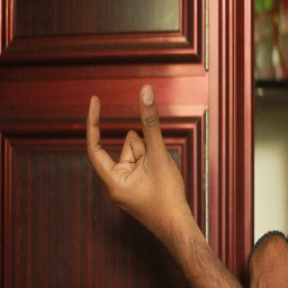U: (76, 84, 187, 215)
